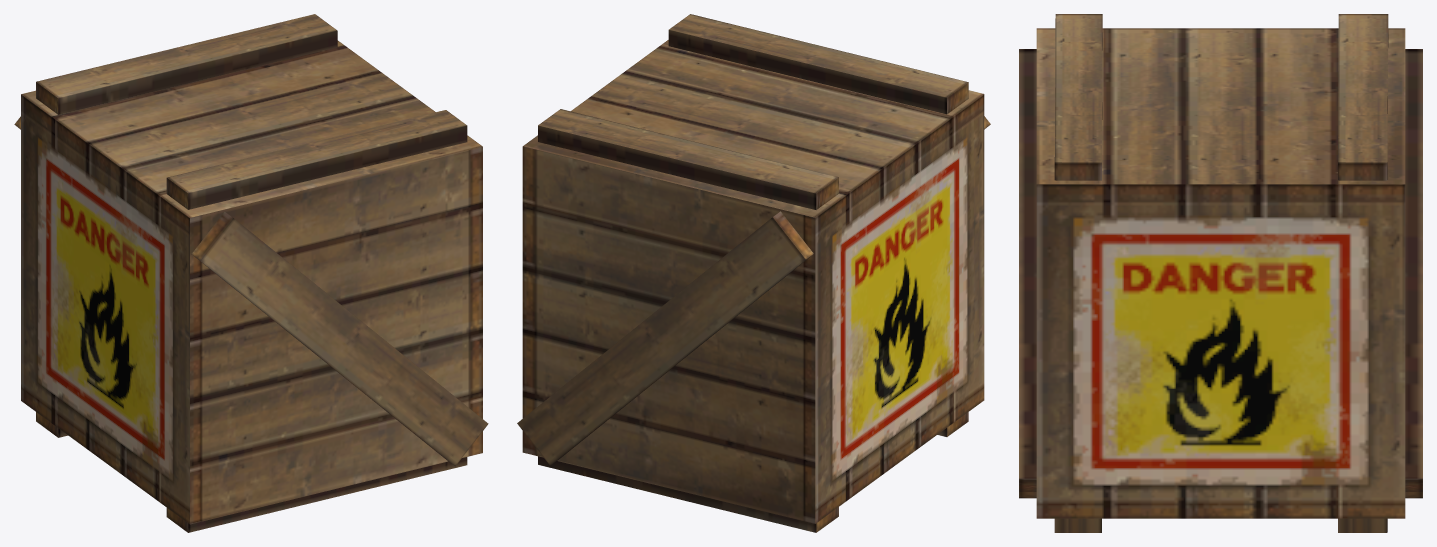
File: ItmPowderBox.obj
3 views of the same model, side by side, from view 1: azimuth 30°, elevation 25°; view 2: azimuth 150°, elevation 25°; view 3: azimuth 270°, elevation 25° (orthographic). The views are drawn at different scales.
Visible parts, largest first — view 1: polygon0; view 2: polygon0; view 3: polygon0.
Boxes of the visible parts, x1,y1,x2,y2 form: polygon0: (14, 14, 488, 532); polygon0: (517, 14, 990, 532); polygon0: (1019, 14, 1422, 532).
Size of the model in its own units: 12.75 by 14.12 by 13.96.
1 material, 1 textured.
